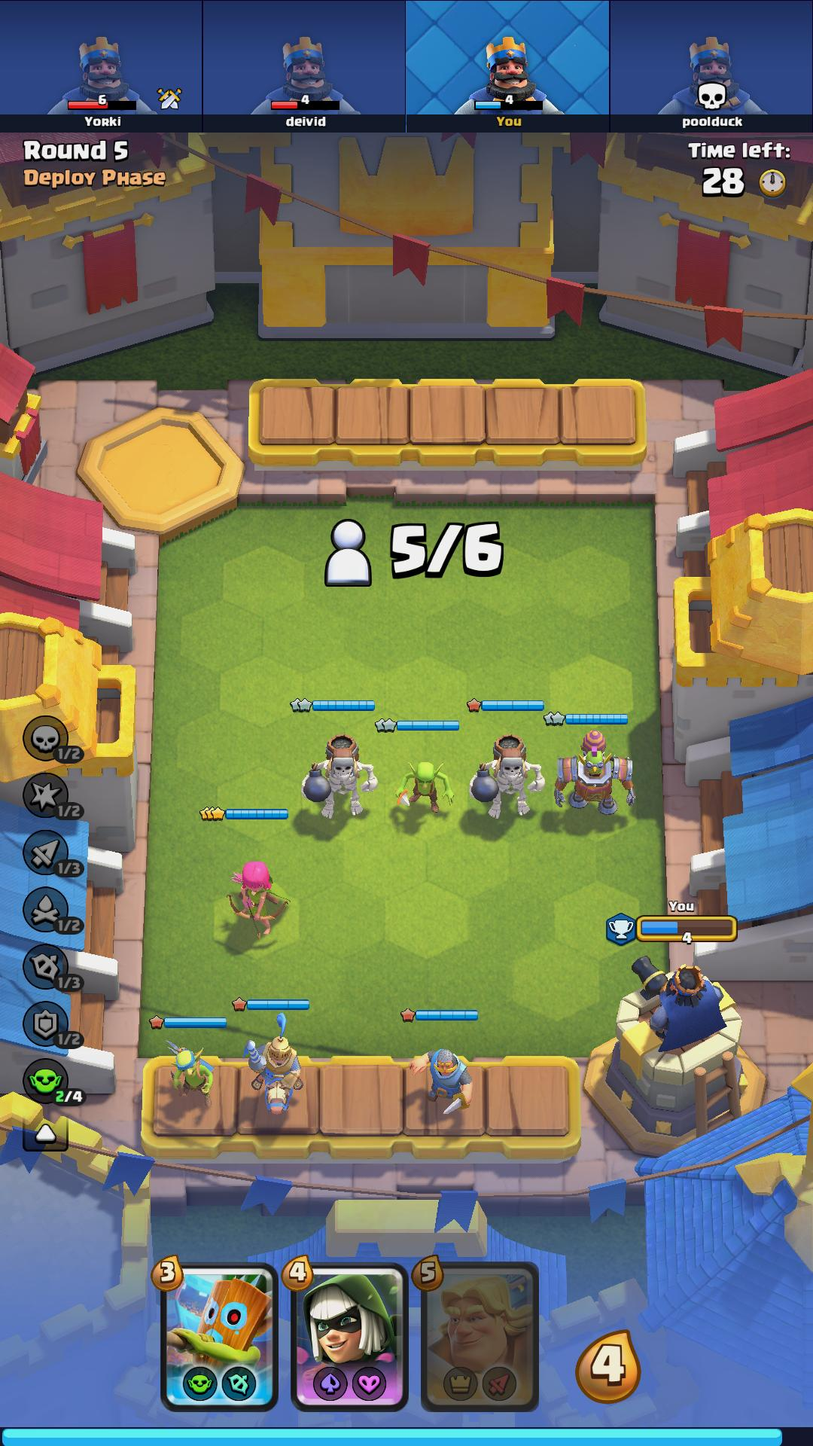archer: (215, 855, 296, 936)
giant: (297, 723, 381, 828), (470, 728, 547, 823)
goblin: (389, 749, 462, 818)
hand-bandit: (297, 1268, 406, 1408)
hand-dart: (166, 1269, 277, 1412)
hand-golden: (425, 1261, 542, 1411)
knight: (408, 1039, 478, 1121)
machine: (551, 726, 640, 827)
prince: (240, 1012, 310, 1128)
spear: (154, 1037, 222, 1106)
